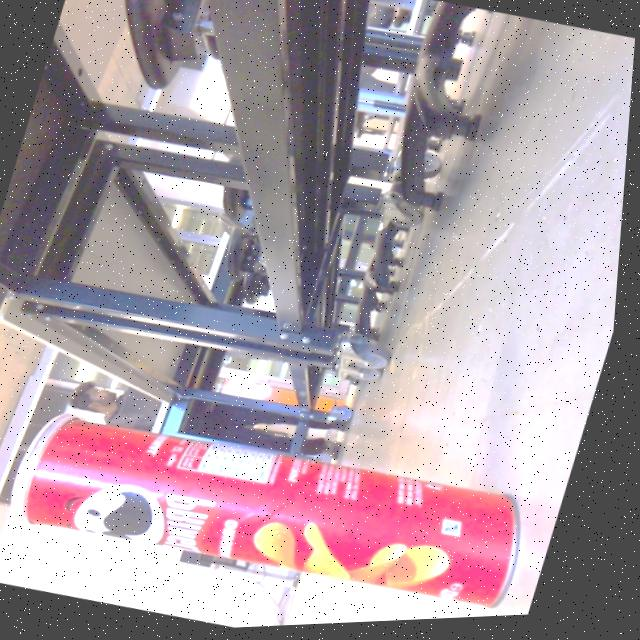redpringles: (0, 381, 577, 639)
